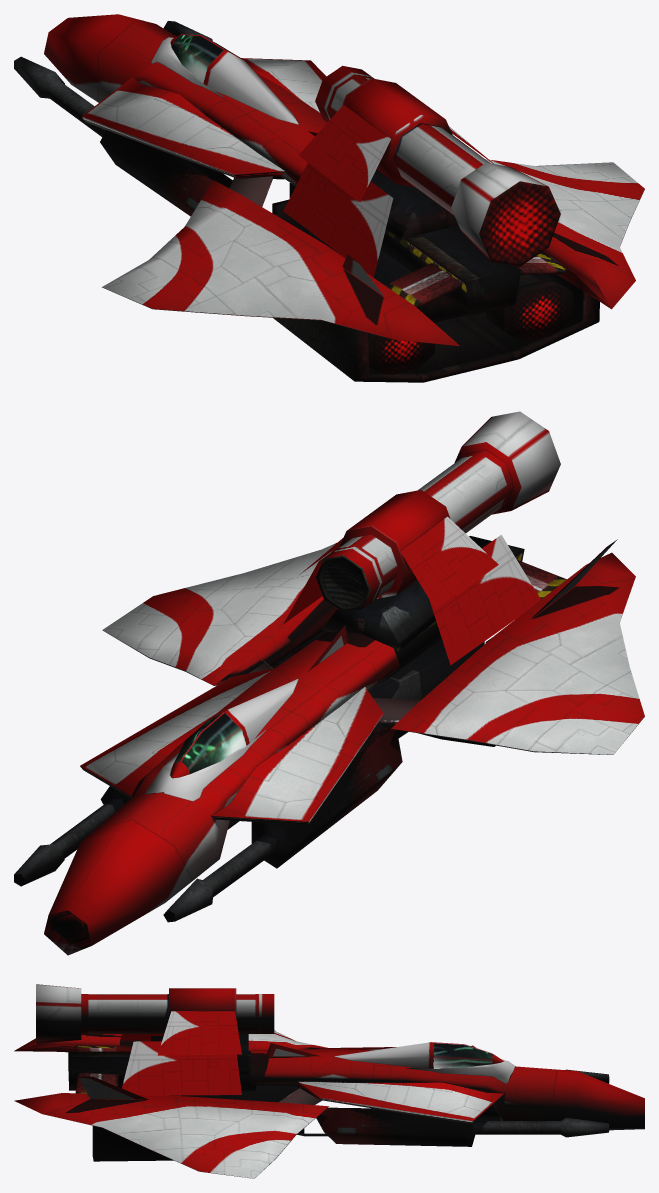
The model's file is red_first.fbx.
3 views of the same model, one above another, from view 1: azimuth 30°, elevation 25°; view 2: azimuth 150°, elevation 25°; view 3: azimuth 270°, elevation 25° (orthographic). The views are drawn at different scales.
Parts seen in each view (by area): view 1: Mesh; view 2: Mesh; view 3: Mesh.
Part boxes in pixels (x1,y1,x2,y2): Mesh: [14, 14, 644, 382]; Mesh: [14, 411, 644, 955]; Mesh: [14, 984, 644, 1178].
Bounding box in the file's own units: 6.57 × 2.77 × 10.42.
Materials: 1 (1 with a texture image).
